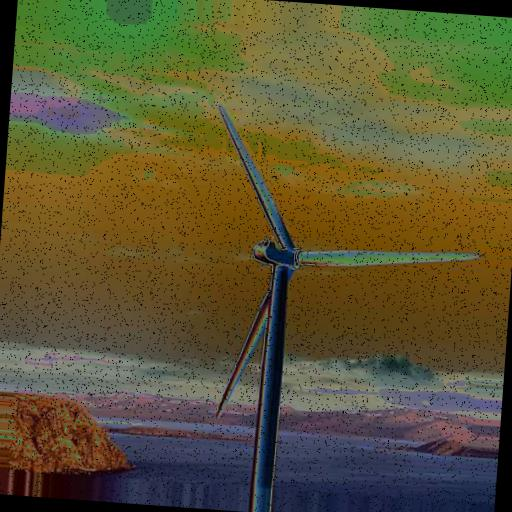wind turbine: (212, 102, 481, 479)
